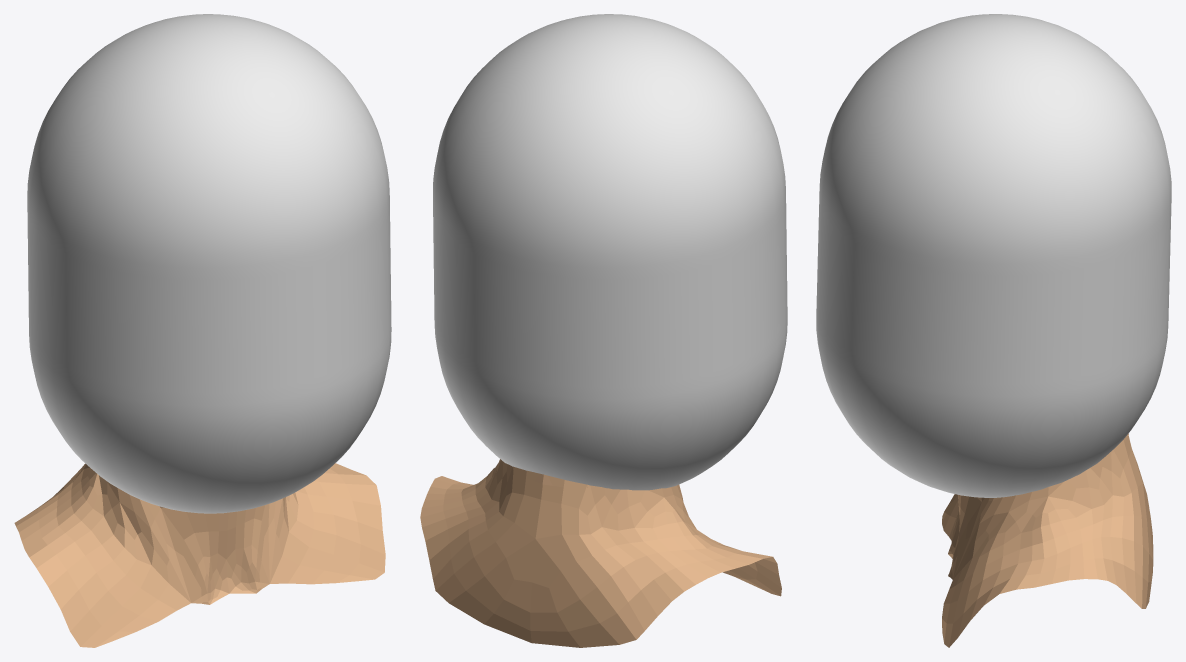
The model's file is head.fbx.
The picture shows the model from 3 angles, left to right: view 1: azimuth 30°, elevation 25°; view 2: azimuth 150°, elevation 25°; view 3: azimuth 270°, elevation 25°; orthographic projection. The views are drawn at different scales.
Parts seen in each view (by area): view 1: Capsule, head; view 2: Capsule, head; view 3: Capsule, head.
Boxes of the visible parts, box(x1,y1,x2,y2) form: Capsule: box(27, 14, 391, 513); head: box(14, 463, 385, 647); Capsule: box(433, 14, 787, 490); head: box(420, 459, 781, 647); Capsule: box(816, 14, 1171, 497); head: box(942, 435, 1153, 647).
Size of the model in its own units: 538 by 862 by 501.
